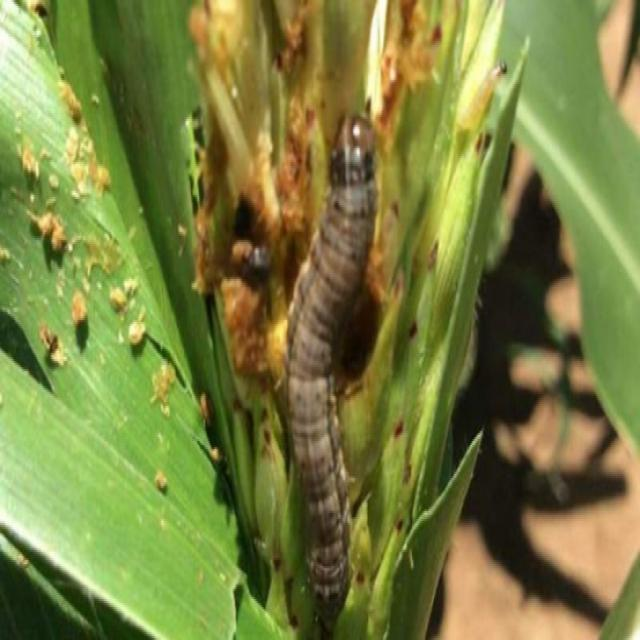Fall-armyworm: (281, 114, 379, 625)
